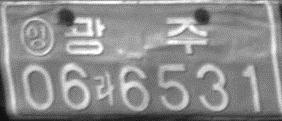0: (21, 63, 54, 112)
1: (237, 64, 268, 113)
3: (196, 63, 229, 113)
5: (156, 63, 191, 112)
6: (59, 61, 91, 112), (118, 64, 150, 112)
광주_D: (63, 16, 208, 56)
라: (93, 70, 115, 106)
영: (19, 16, 55, 56)
